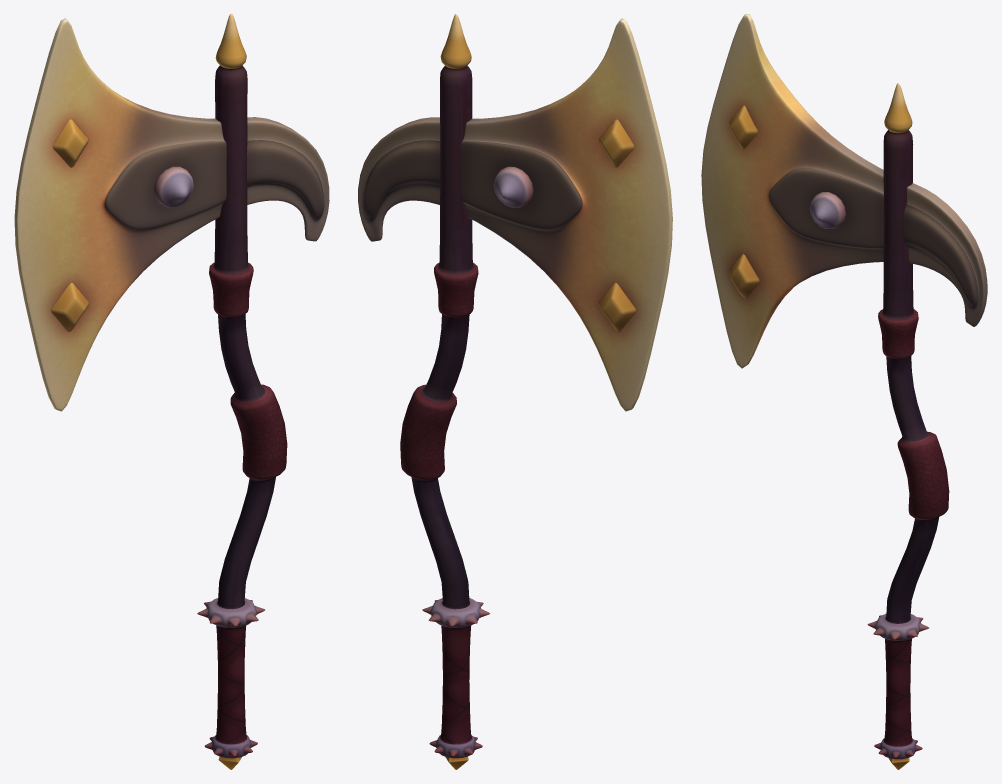
The model's file is Sword04.fbx.
3 views of the same model, side by side, from view 1: azimuth 30°, elevation 25°; view 2: azimuth 150°, elevation 25°; view 3: azimuth 330°, elevation 25° (orthographic). The views are drawn at different scales.
Visible parts, largest first — view 1: Sword04; view 2: Sword04; view 3: Sword04.
Boxes of the visible parts, <box> form: Sword04: <box>14,14,329,769</box>; Sword04: <box>358,14,672,769</box>; Sword04: <box>701,14,987,769</box>.
Bounding box in the file's own units: 37.08 × 89.76 × 8.8.
